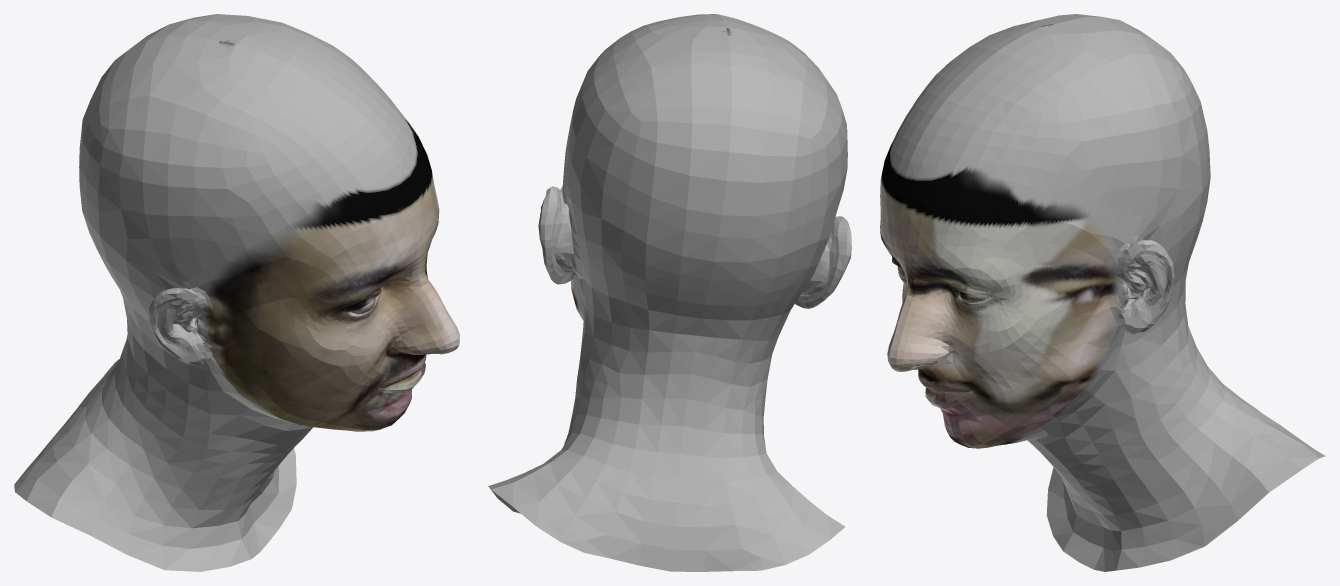
File: ezgif-frame-045.obj
3 renders of one model, left to right at view 1: azimuth 30°, elevation 25°; view 2: azimuth 150°, elevation 25°; view 3: azimuth 270°, elevation 25°, orthographic. The views are drawn at different scales.
Bounding box in the file's own units: 0.2055 × 0.3226 × 0.2533.
Materials: 1 (1 with a texture image).
